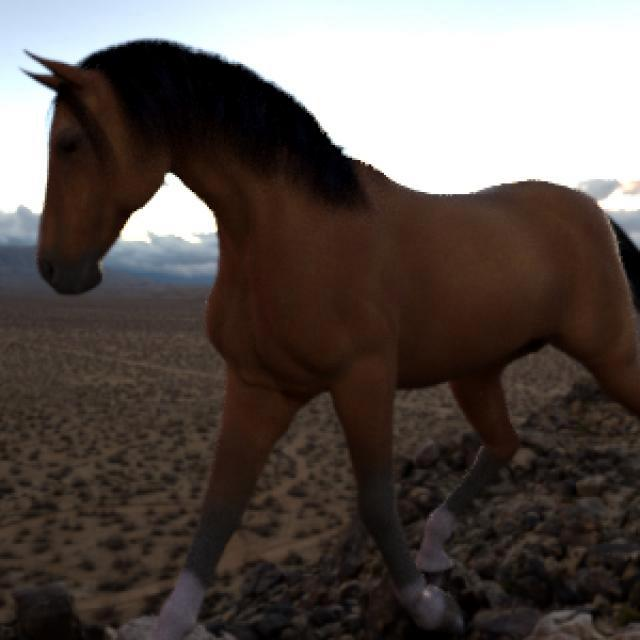horse: (28, 40, 640, 640)
